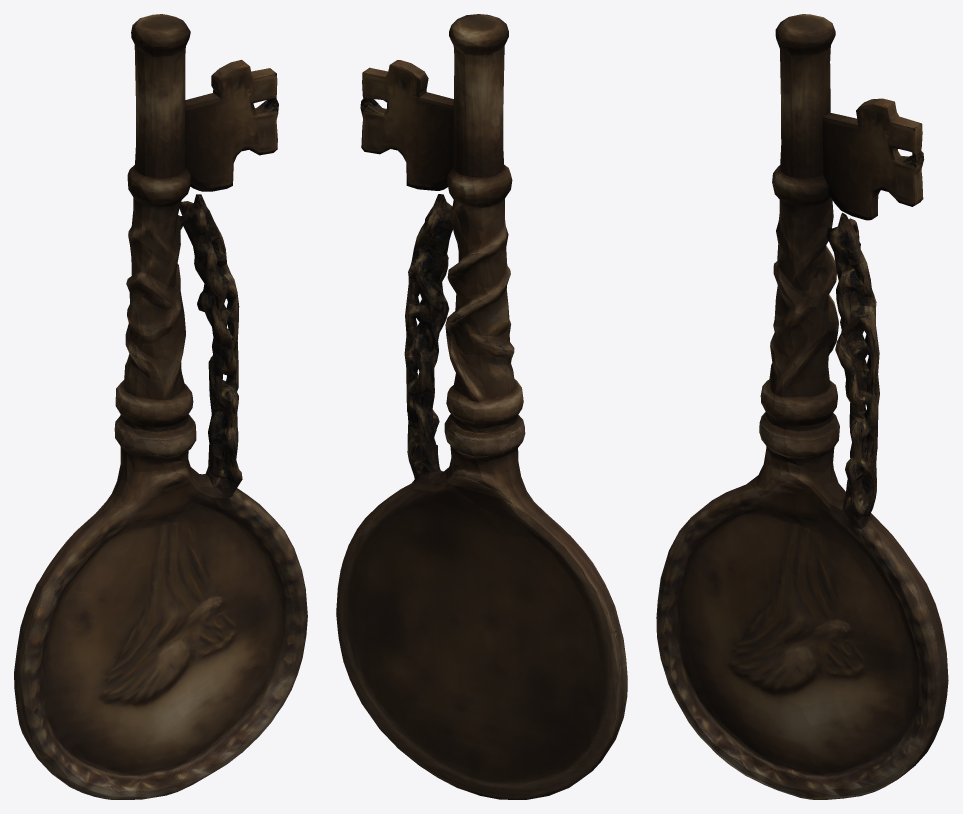
Rendered from Bronzew.glb.
3 views of the same model, side by side, from view 1: azimuth 30°, elevation 25°; view 2: azimuth 150°, elevation 25°; view 3: azimuth 330°, elevation 25° (orthographic).
Visible parts, largest first — view 1: world; view 2: world; view 3: world.
Part boxes in pixels (x1,y1,x2,y2): world: [14, 14, 307, 799]; world: [336, 14, 627, 799]; world: [656, 14, 948, 799].
Size of the model in its own units: 0.3882 by 0.9998 by 0.0964.
Materials: 1 (1 with a texture image).
